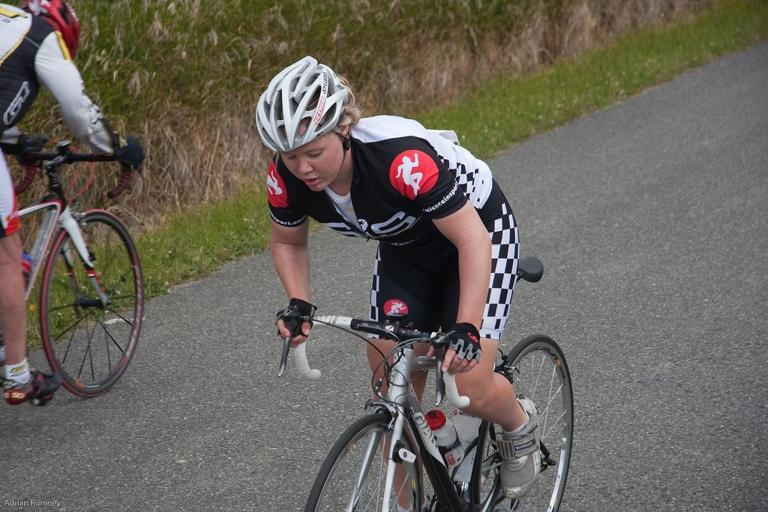non-vehicle: (273, 259, 575, 512)
